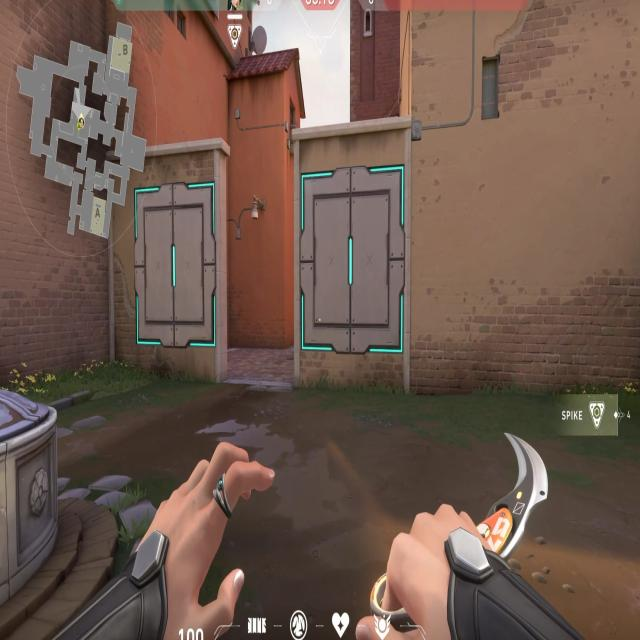Mid_Wall: (291, 130, 416, 391), (105, 140, 234, 380)
